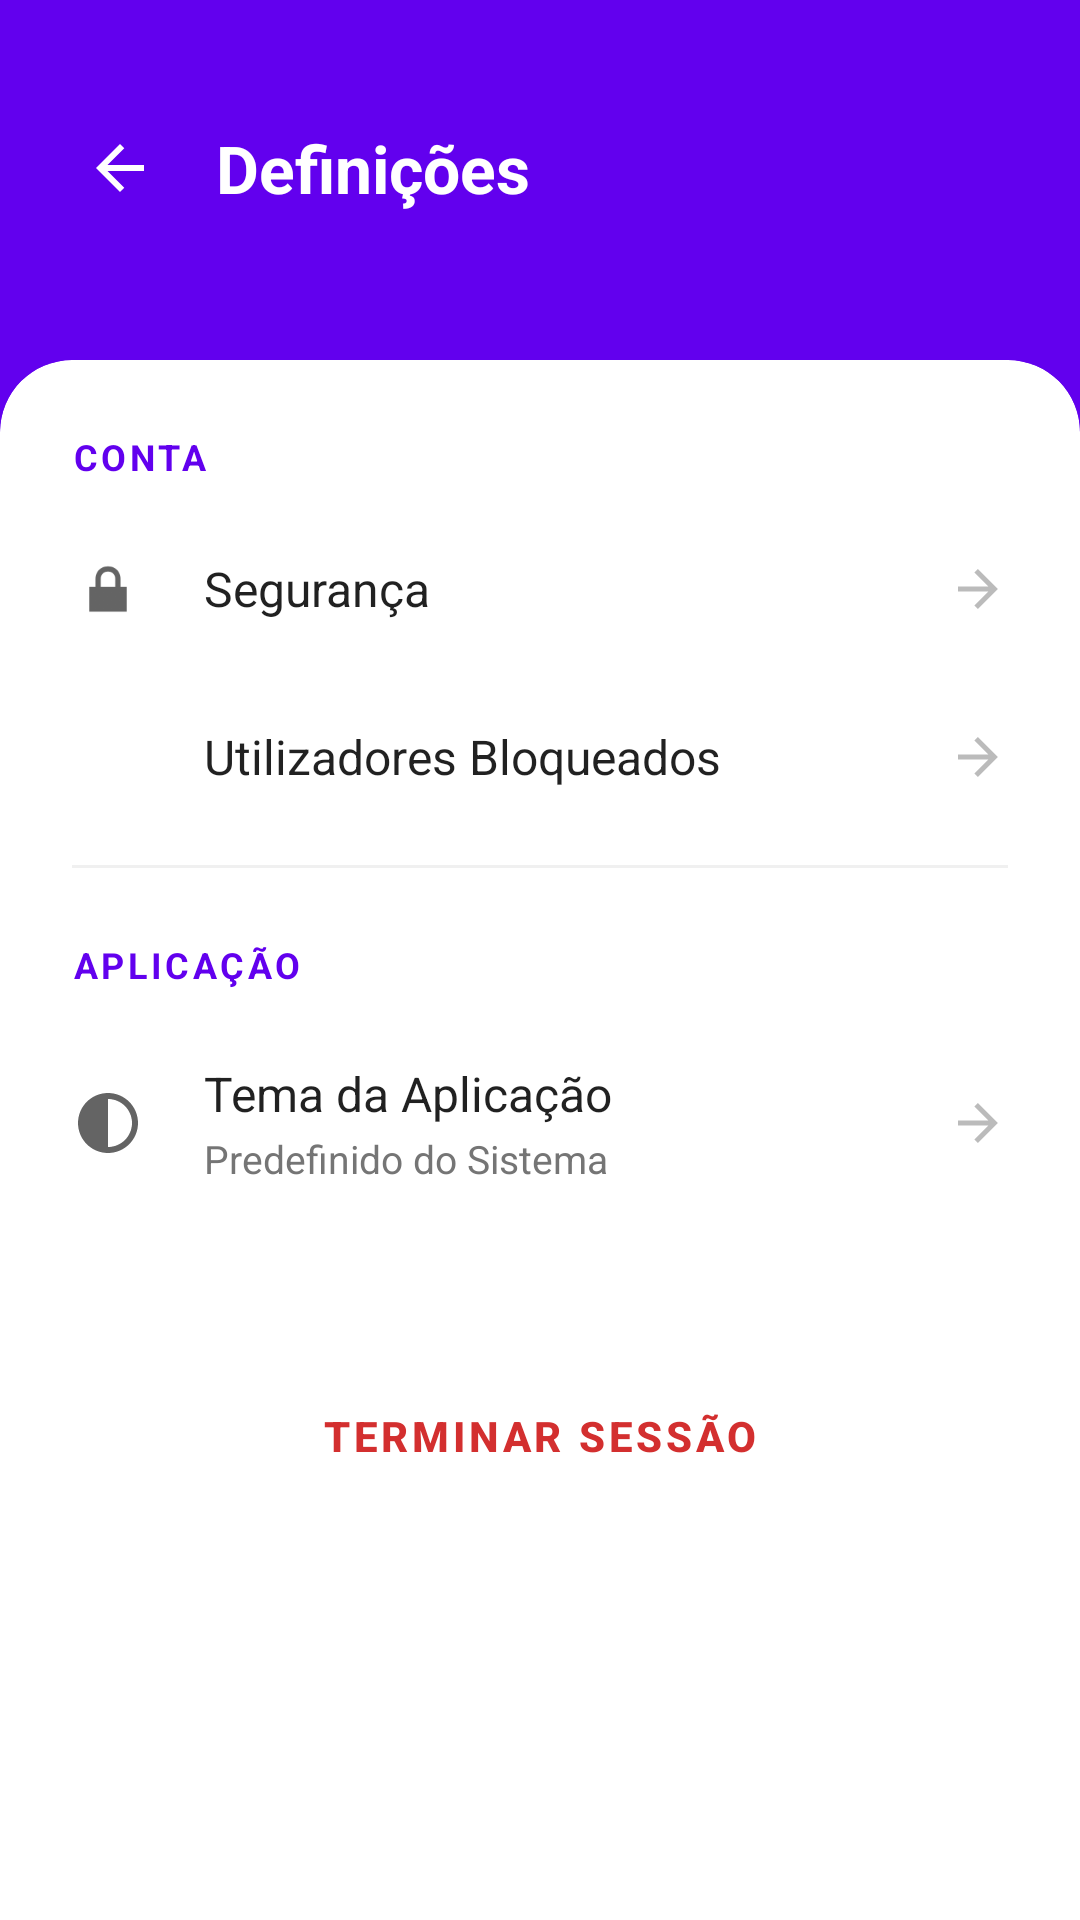

Where icons sit on this 1080w x 1920h app screen, as (x1, y1, x2, y2):
lock: (89, 566, 127, 612)
theme: (78, 1093, 138, 1153)
Voltar: (96, 144, 144, 192)
